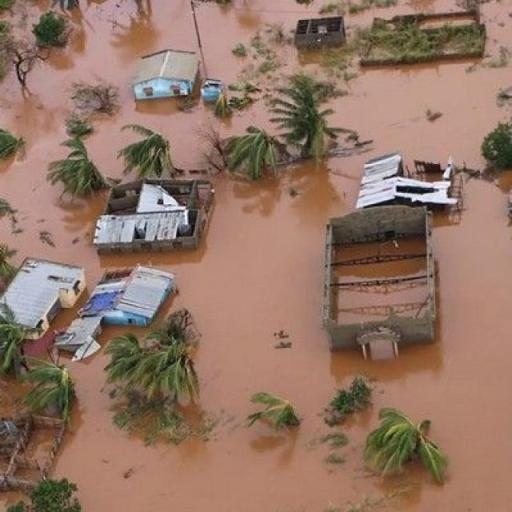flood: (0, 0, 512, 512), (346, 0, 467, 36)
house: (2, 256, 80, 334), (132, 50, 200, 98)
